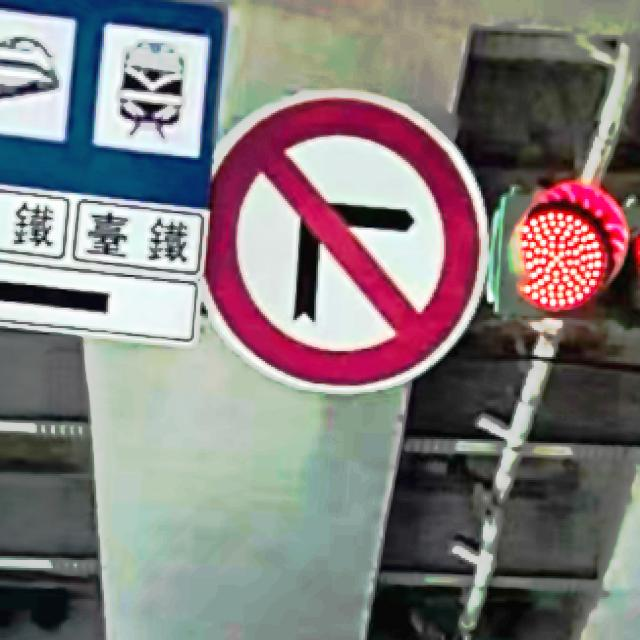noturnright: (204, 96, 481, 386)
